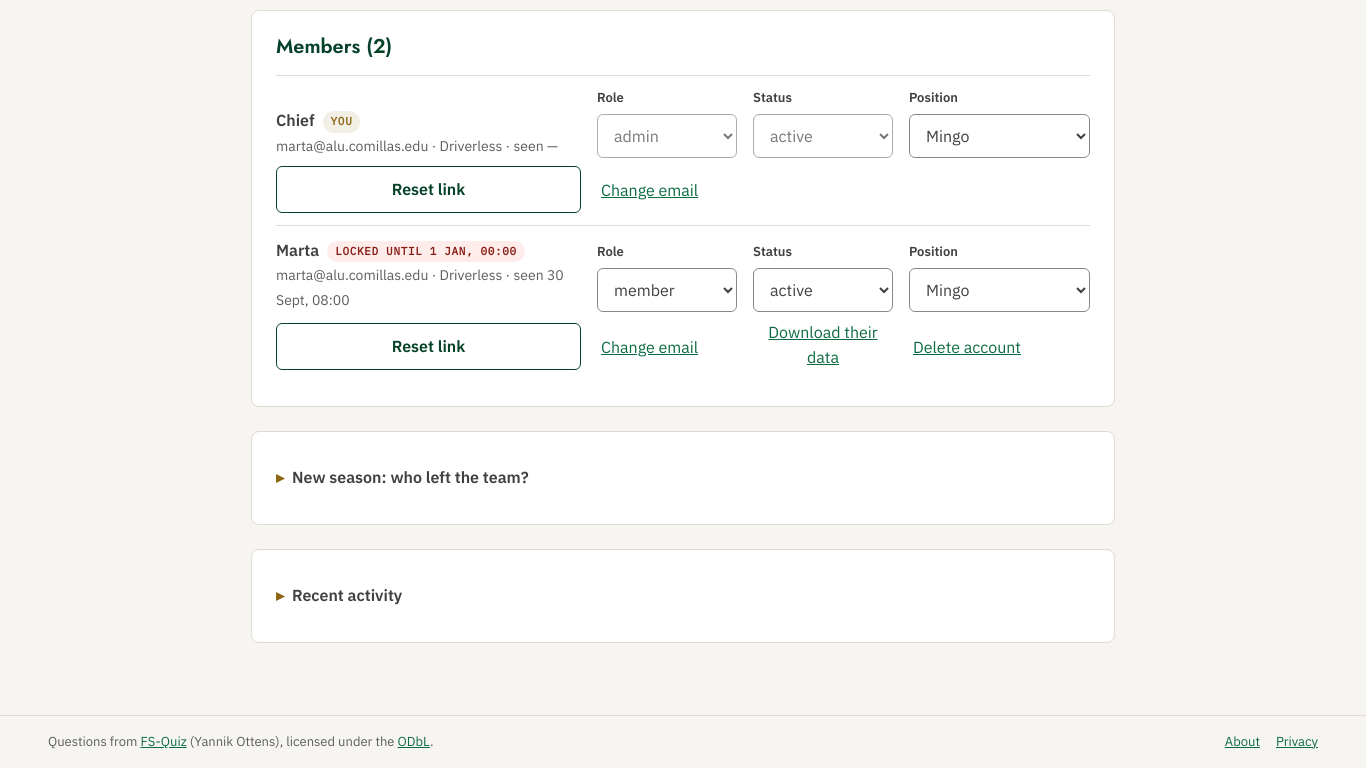
Test: the audit trail reads as sentences
The image size is (1366, 768).
(page scrolled)
Click the heading "Recent activity" at (347, 595), box left=292, top=585, right=402, bottom=605
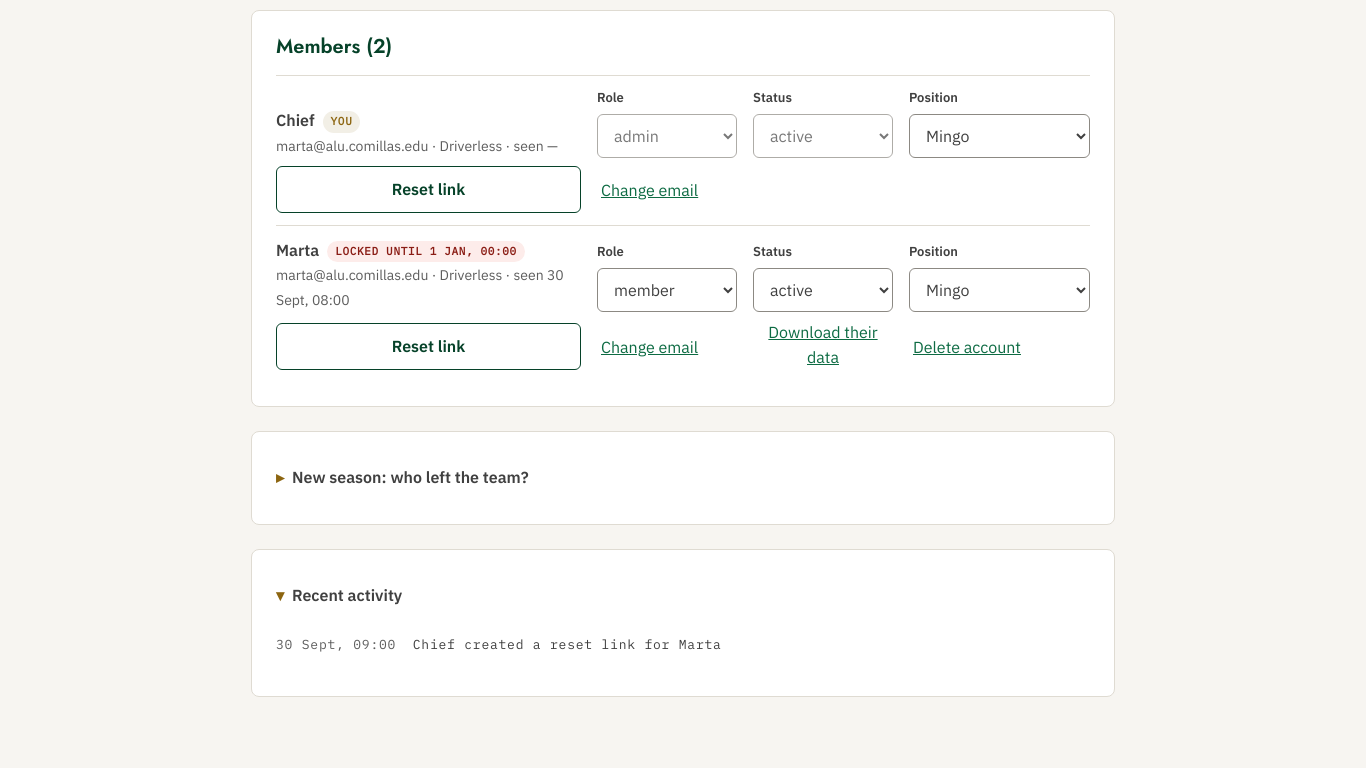
Result: the list item "30 Sept, 09:00 Chief created a reset link for Marta" is shown at left=276, top=636, right=722, bottom=652
